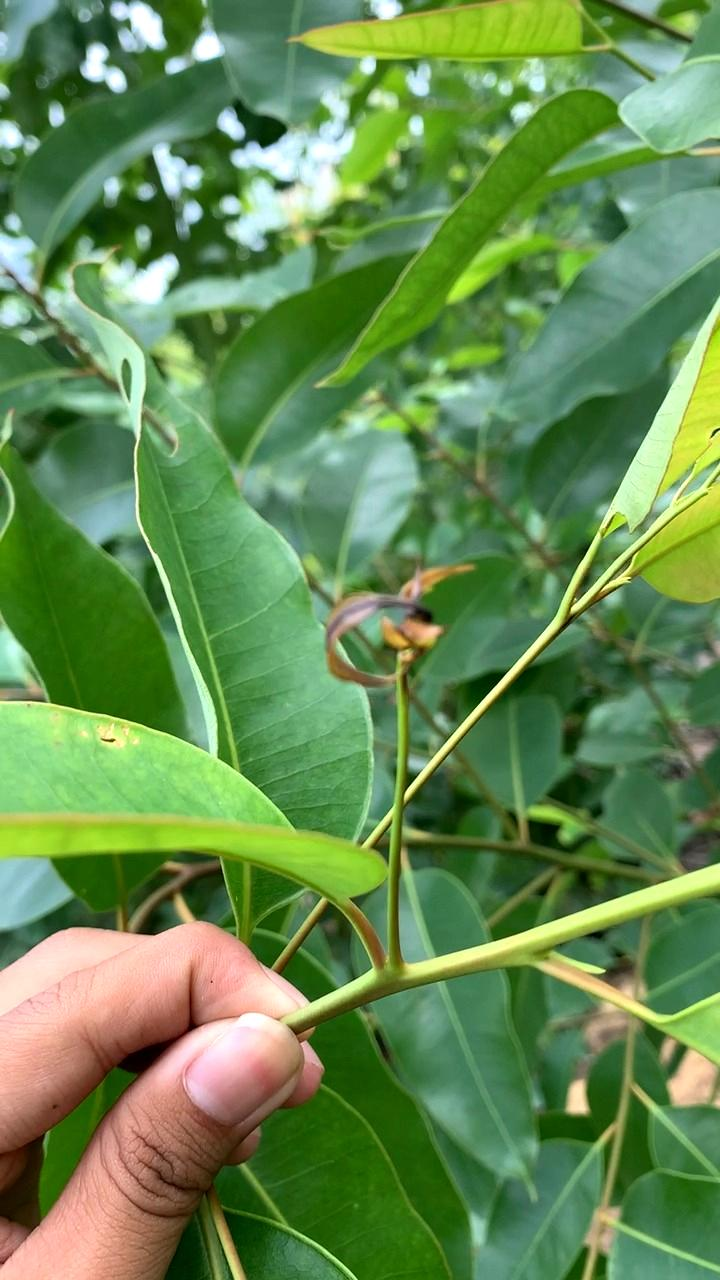Helopeltis-Withered Sprout: (301, 548, 493, 719)
